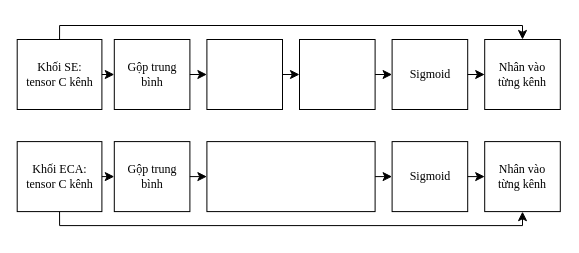
This 579x253 diagram has some shape labels left out. Each missing label, with the centre of its shape:
Kết nối đầy đủ, giảm chiều, ReLU: the point at 244,74
Kết nối đầy đủ, trả chiều: the point at 336,74
Tích chập một chiều cỡ k dọc trục kênh: the point at 290,176
